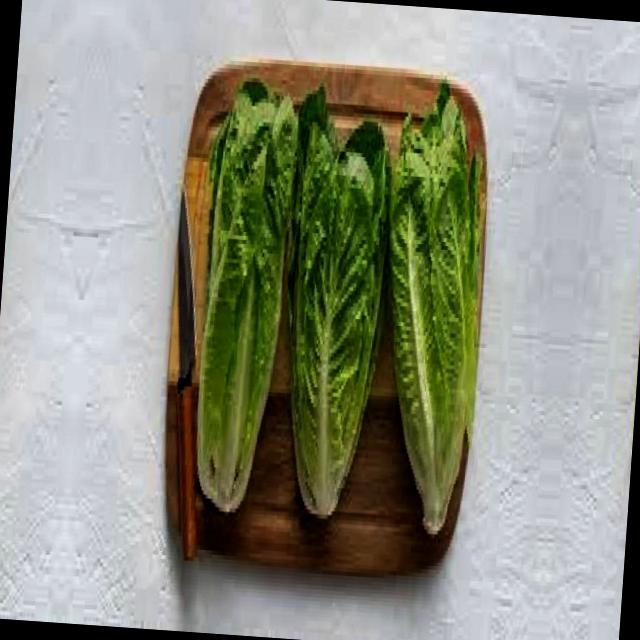healthy: (180, 80, 304, 532), (370, 73, 490, 540), (270, 95, 390, 528)
